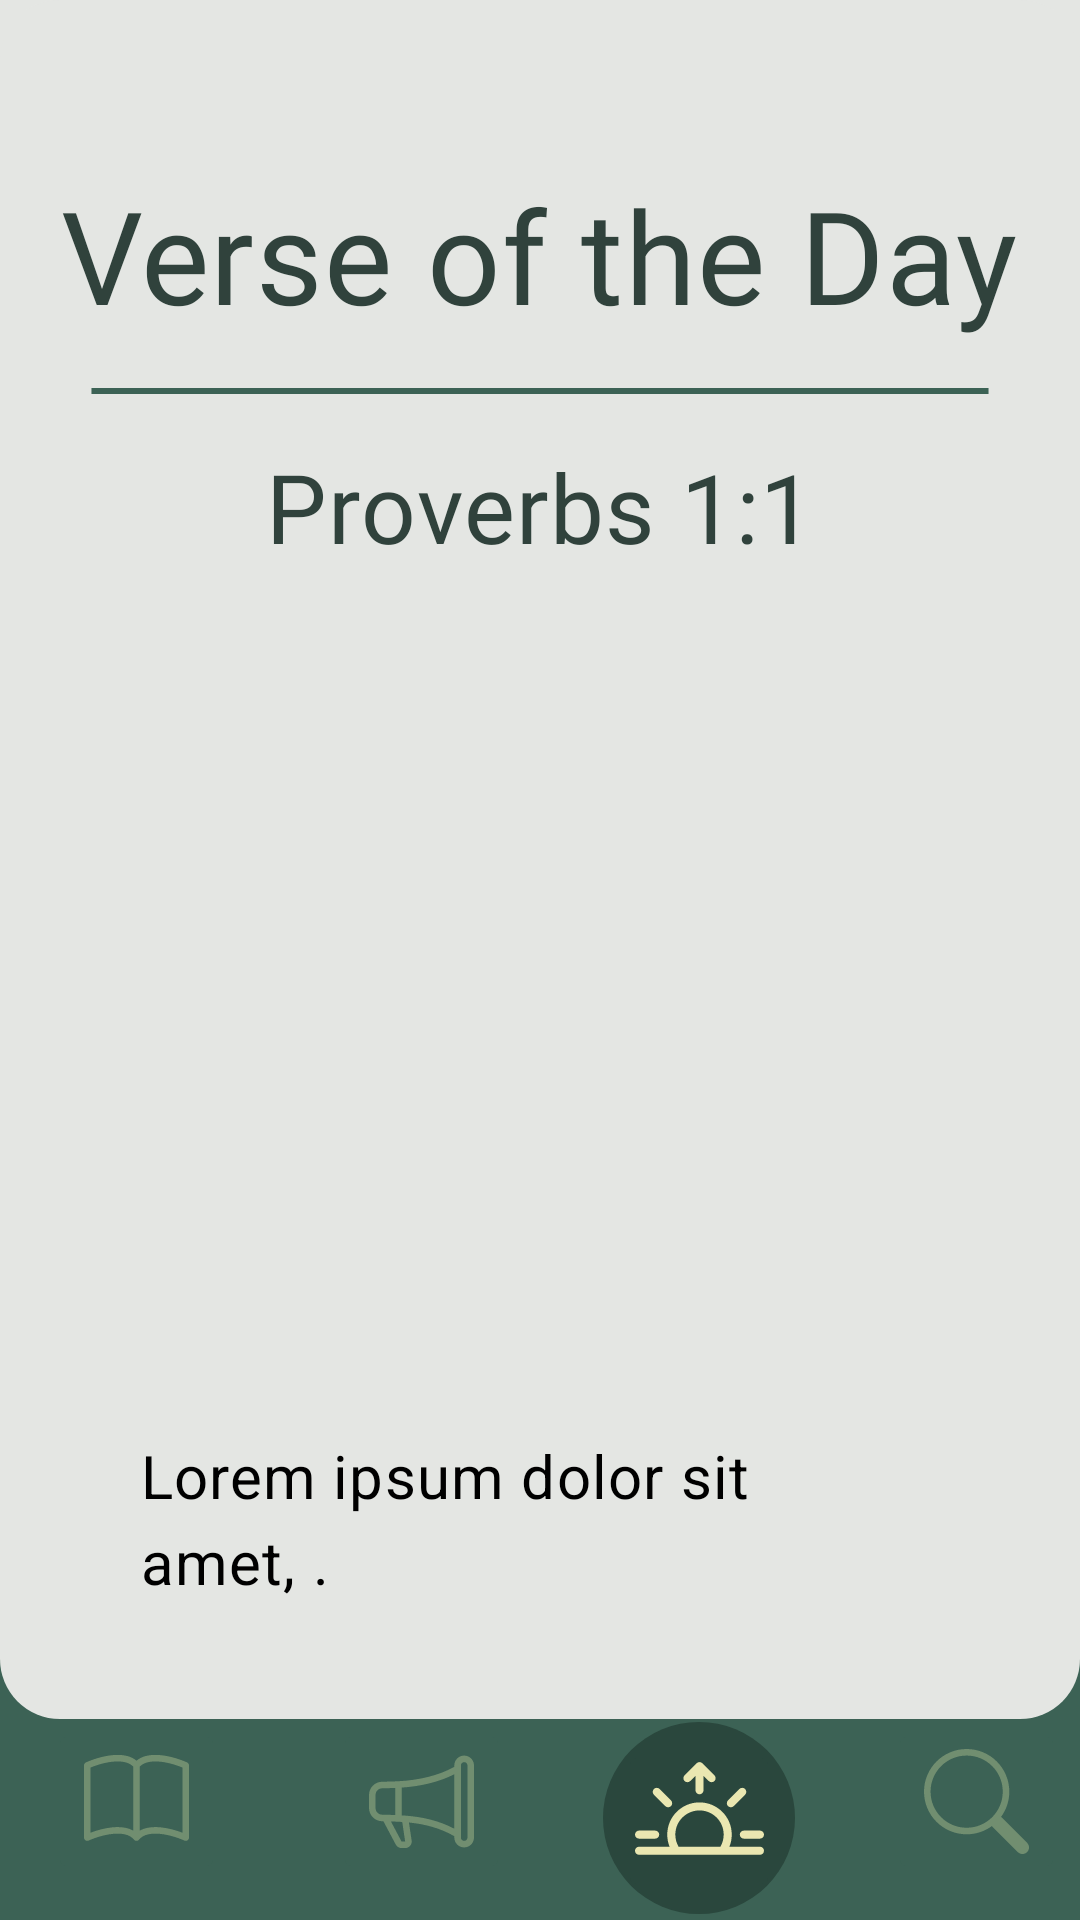

Named icons in this screenshot (1080×1920) and their centers, point (x, y):
audio: point (421, 1802)
book: point (136, 1798)
search: point (976, 1801)
sunrise: point (699, 1821)
